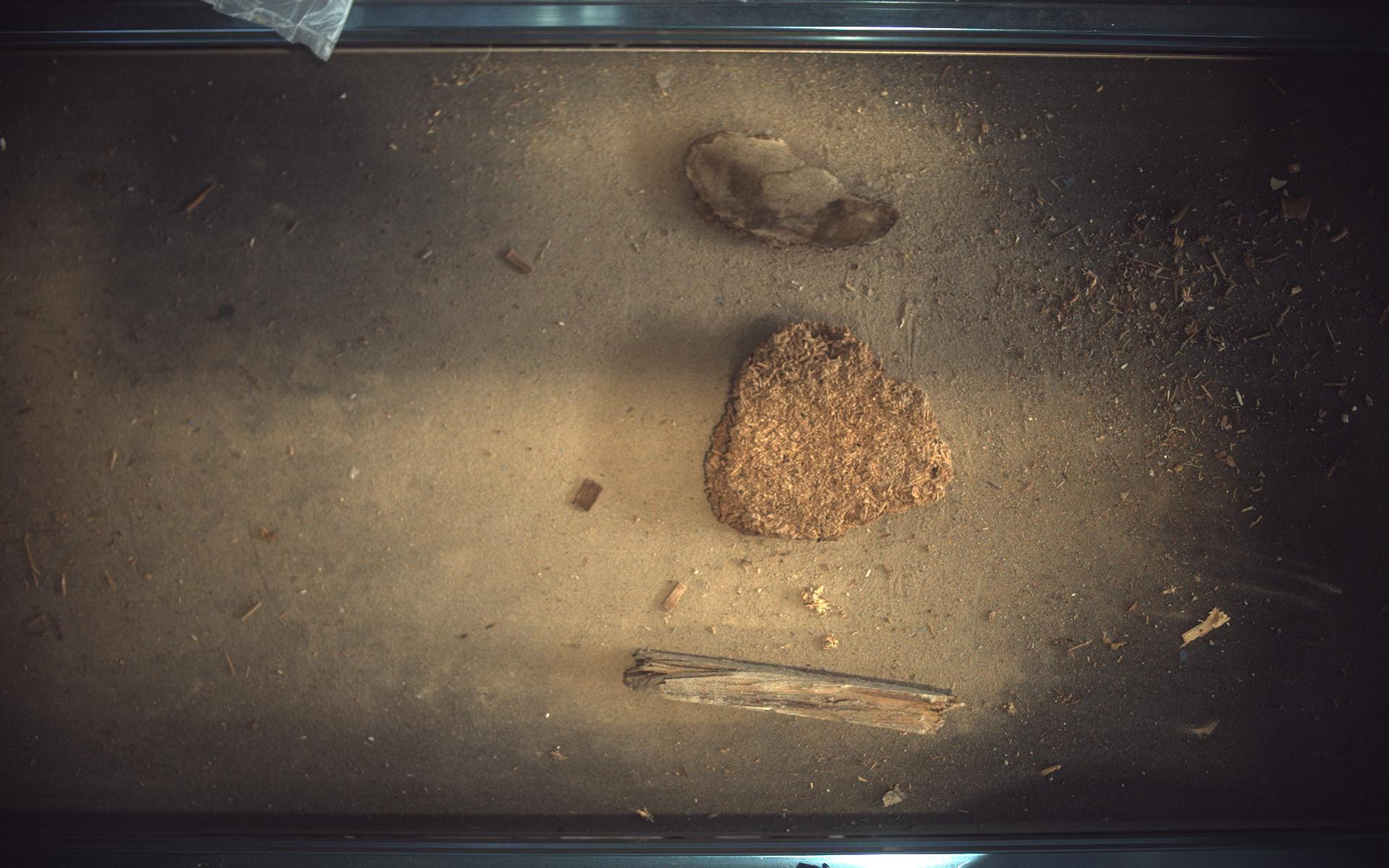wood: (706, 321, 954, 540), (624, 649, 966, 736), (686, 130, 900, 247)
